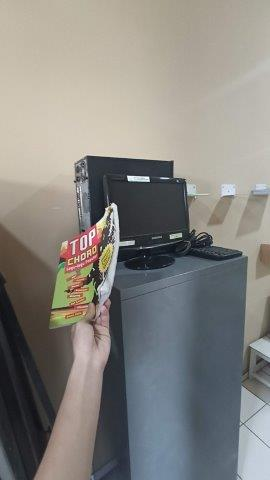kertas: (49, 201, 120, 329)
